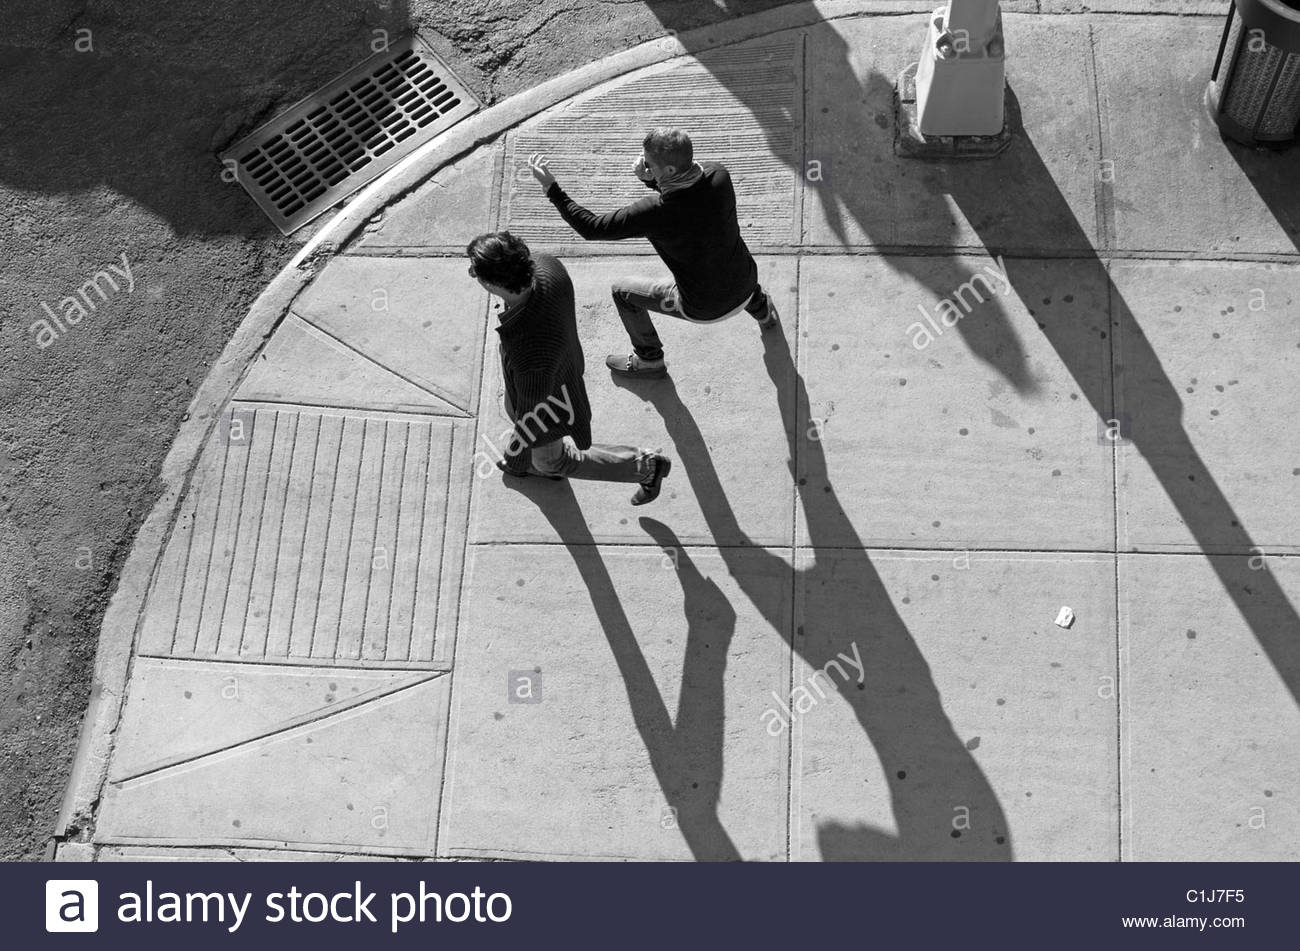Person: (526, 124, 812, 374), (455, 226, 681, 515)
